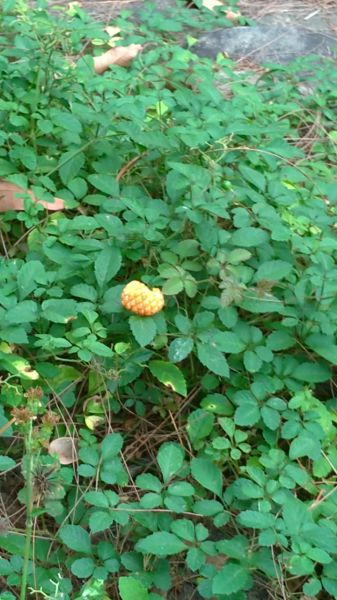eggs: (120, 275, 168, 323)
